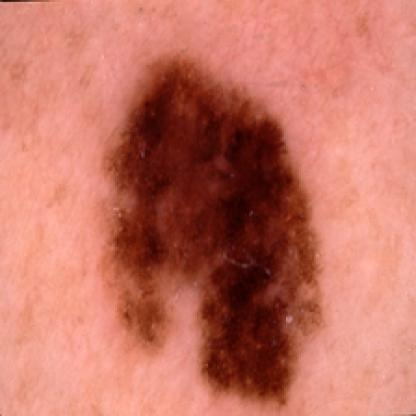malignant: (80, 69, 297, 344)
